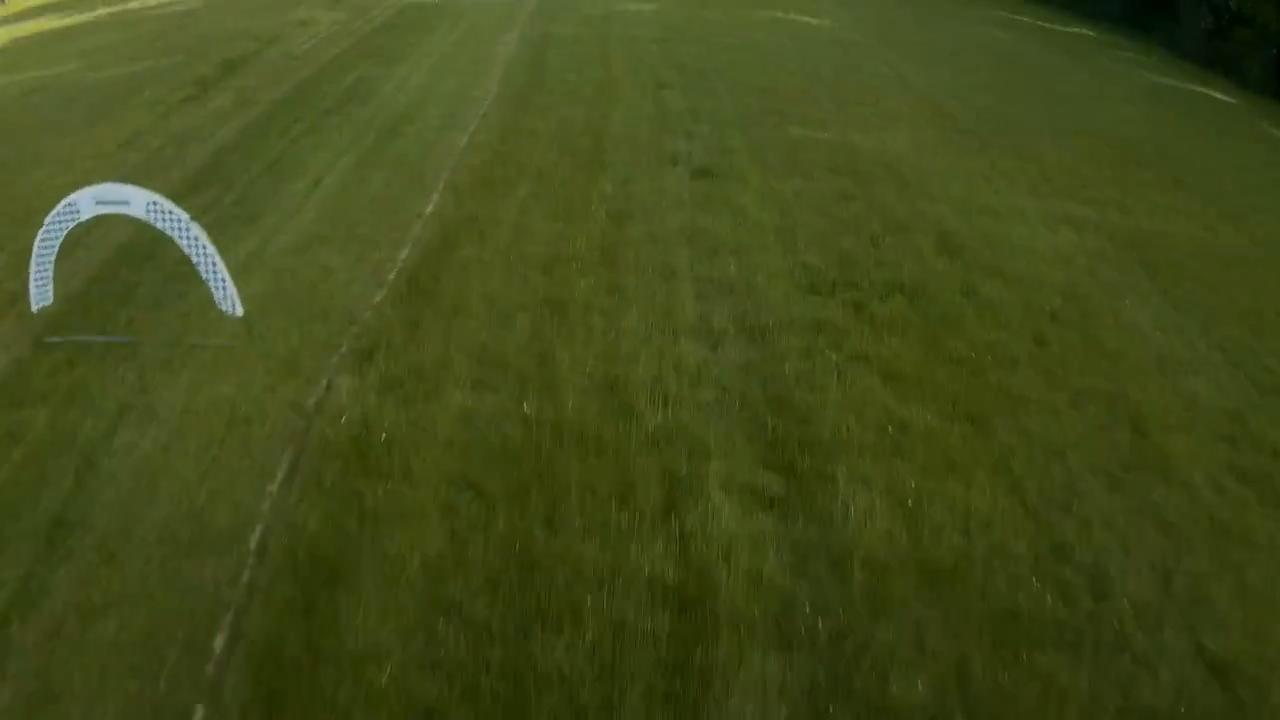gate: (26, 183, 243, 320)
